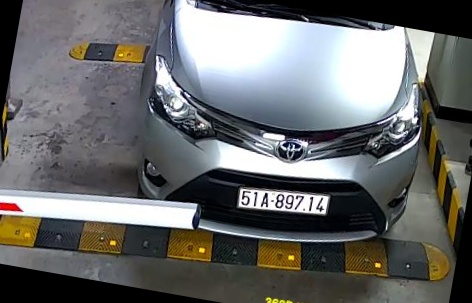plate: (233, 176, 337, 230)
